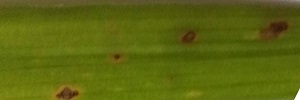RiceBlast: (250, 15, 294, 45), (46, 83, 90, 100), (106, 47, 136, 68), (177, 26, 202, 44)
